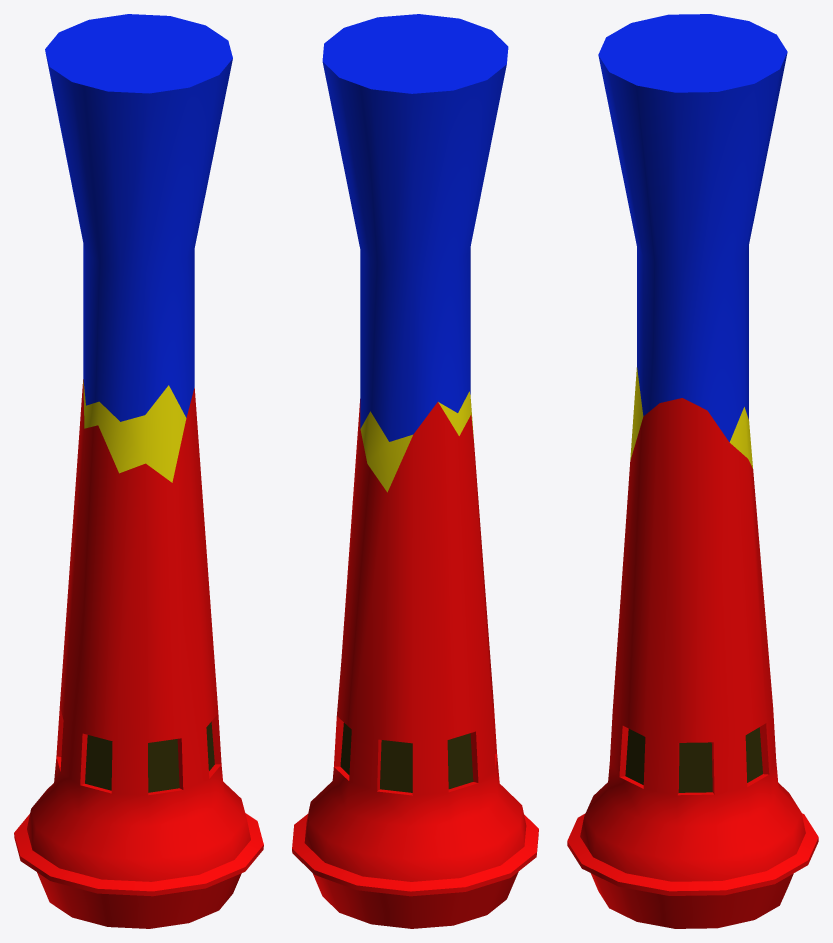
Rendered from body_H.FBX.
3 renders of one model, left to right at view 1: azimuth 30°, elevation 25°; view 2: azimuth 150°, elevation 25°; view 3: azimuth 270°, elevation 25°, orthographic.
Visible parts, largest first — view 1: pillar_H_bodydown, pillar_H_bodyup, pillar_H_bodymiddle2, pillar_H_glass; view 2: pillar_H_bodydown, pillar_H_bodyup, pillar_H_glass, pillar_H_bodymiddle, pillar_H_bodymiddle2; view 3: pillar_H_bodydown, pillar_H_bodyup, pillar_H_glass, pillar_H_bodymiddle, pillar_H_bodymiddle2.
Boxes of the visible parts, x1,y1,x2,y2 form: pillar_H_bodydown: (14,379,263,928); pillar_H_bodyup: (45,14,232,421); pillar_H_bodymiddle2: (83,379,186,482); pillar_H_glass: (85,721,214,792); pillar_H_bodydown: (292,399,538,928); pillar_H_bodyup: (322,14,508,441); pillar_H_glass: (340,723,473,792); pillar_H_bodymiddle: (360,411,412,492); pillar_H_bodymiddle2: (438,391,474,443); pillar_H_bodydown: (567,398,818,928); pillar_H_bodyup: (598,14,787,441); pillar_H_glass: (625,727,762,792); pillar_H_bodymiddle: (729,407,752,468); pillar_H_bodymiddle2: (630,367,643,460).
Bounding box in the file's own units: 10.44 × 38.95 × 10.61.
